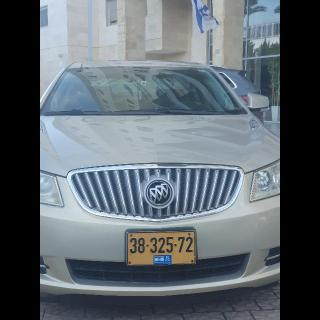LicensePlate: (128, 233, 195, 255)
